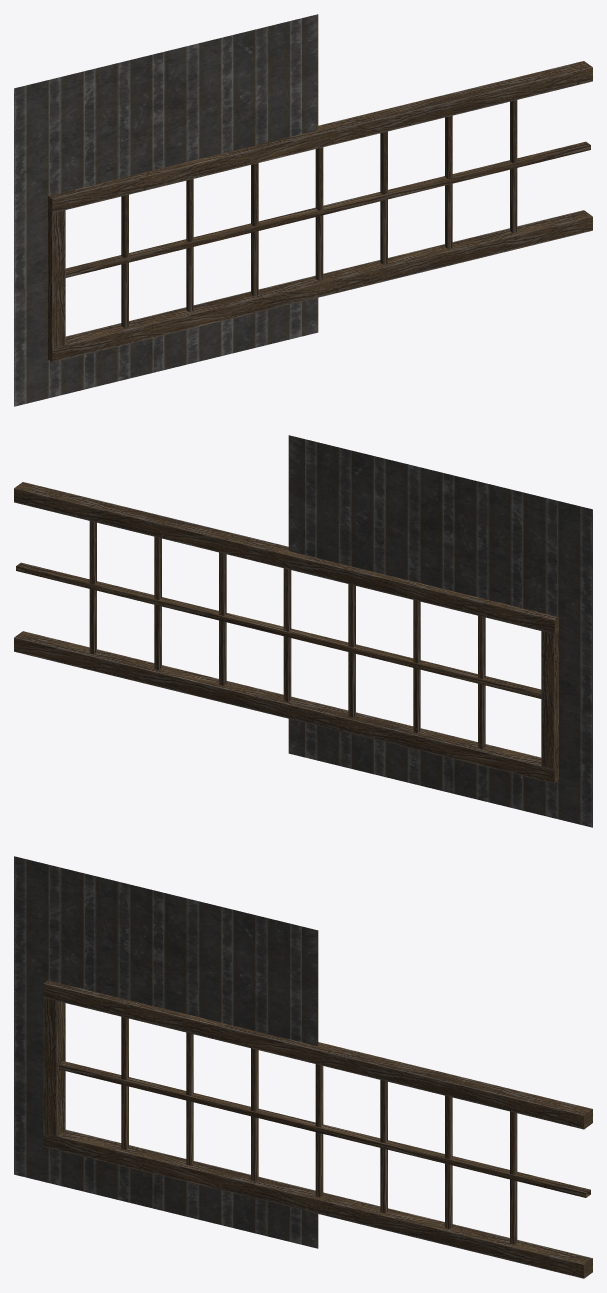
File: window_start8x4.fbx
The picture shows the model from 3 angles, top to bottom: view 1: azimuth 30°, elevation 25°; view 2: azimuth 150°, elevation 25°; view 3: azimuth 330°, elevation 25°; orthographic projection.
Visible parts, largest first — view 1: window_start8x4; view 2: window_start8x4; view 3: window_start8x4.
Part boxes in pixels (x1=…): window_start8x4: x1=14, y1=14, x2=592, y2=406; window_start8x4: x1=14, y1=435, x2=592, y2=827; window_start8x4: x1=14, y1=856, x2=592, y2=1278.
Bounding box in the file's own units: 755 × 400 × 20.34.
